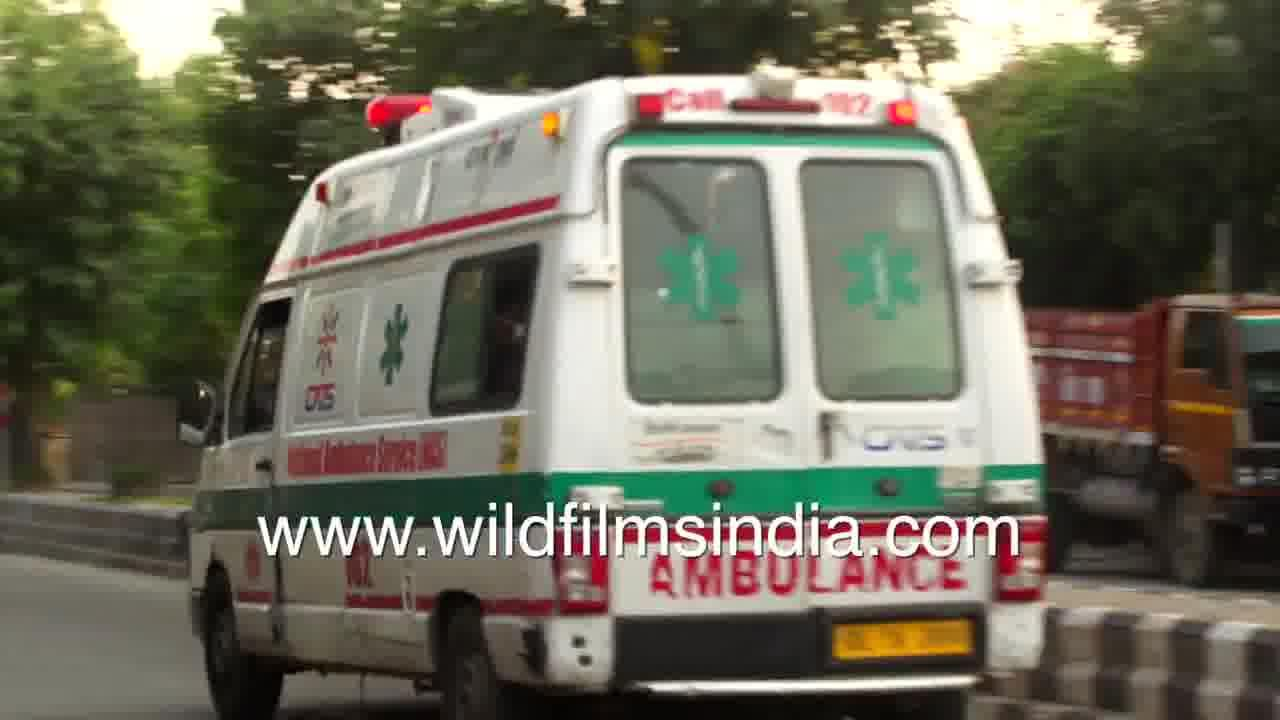AMBULANCE: (220, 59, 1035, 500)
